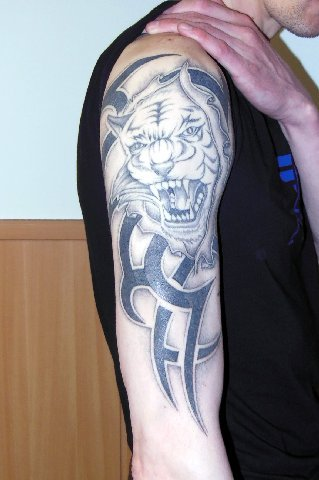tatu5_tigr: (101, 66, 225, 262)
